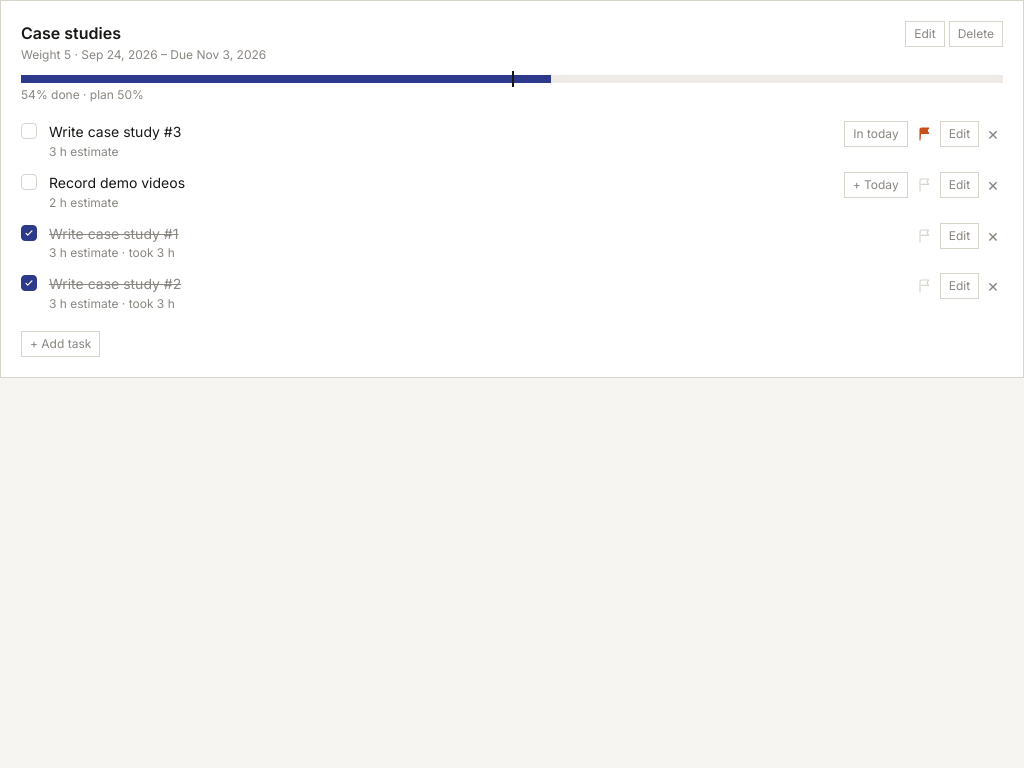
Test: RequirementCard › edits the weight
The image size is (1024, 768).
Click the button with aria-label "Edit Case studies": (925, 34) top-left (905, 21), bottom-right (945, 47)
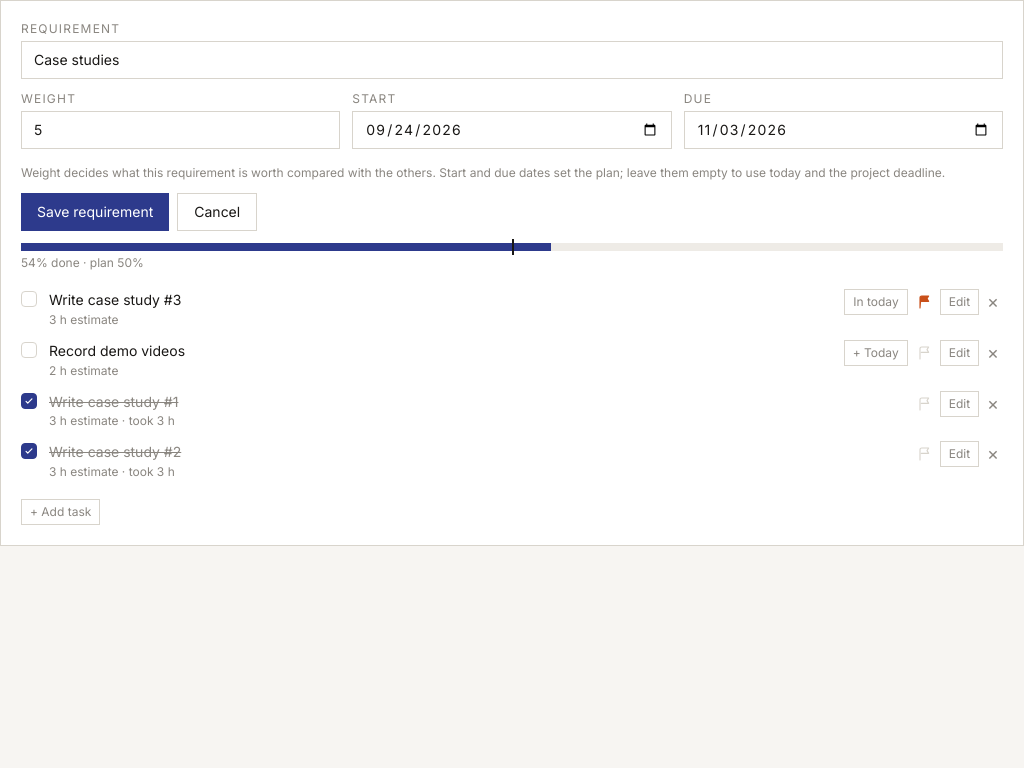
Replace the text in the number field named "Weight (1–10)" with "8": (181, 130) top-left (21, 111), bottom-right (340, 149)
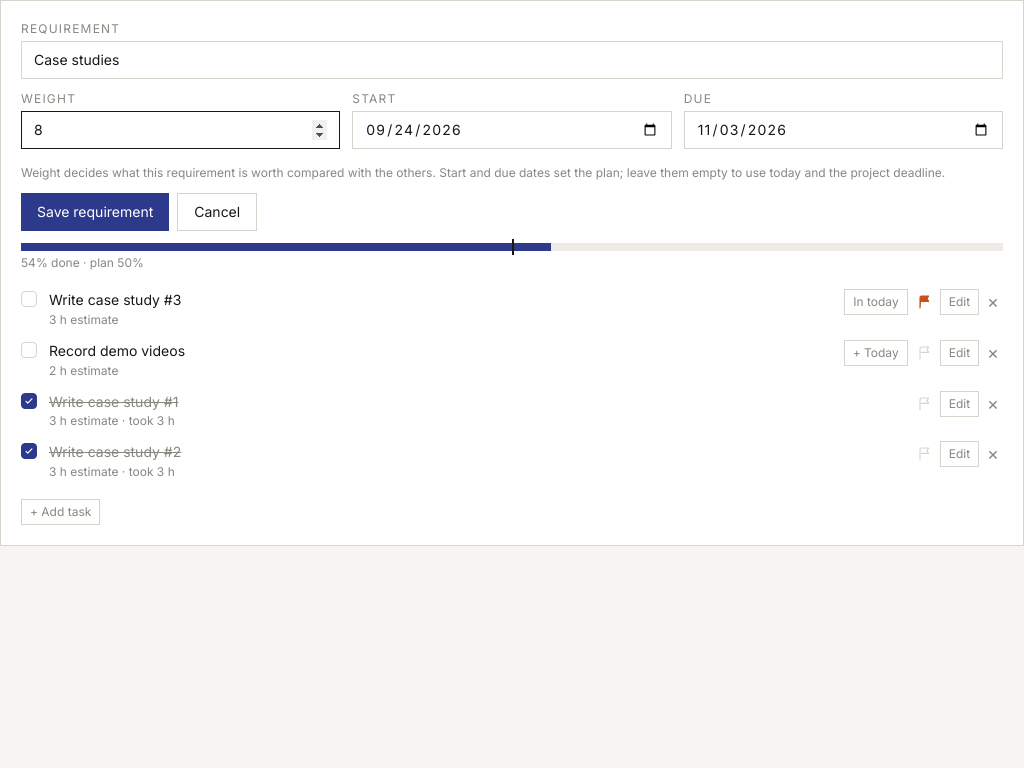
Click the button "Save requirement": (95, 212) top-left (21, 193), bottom-right (169, 231)
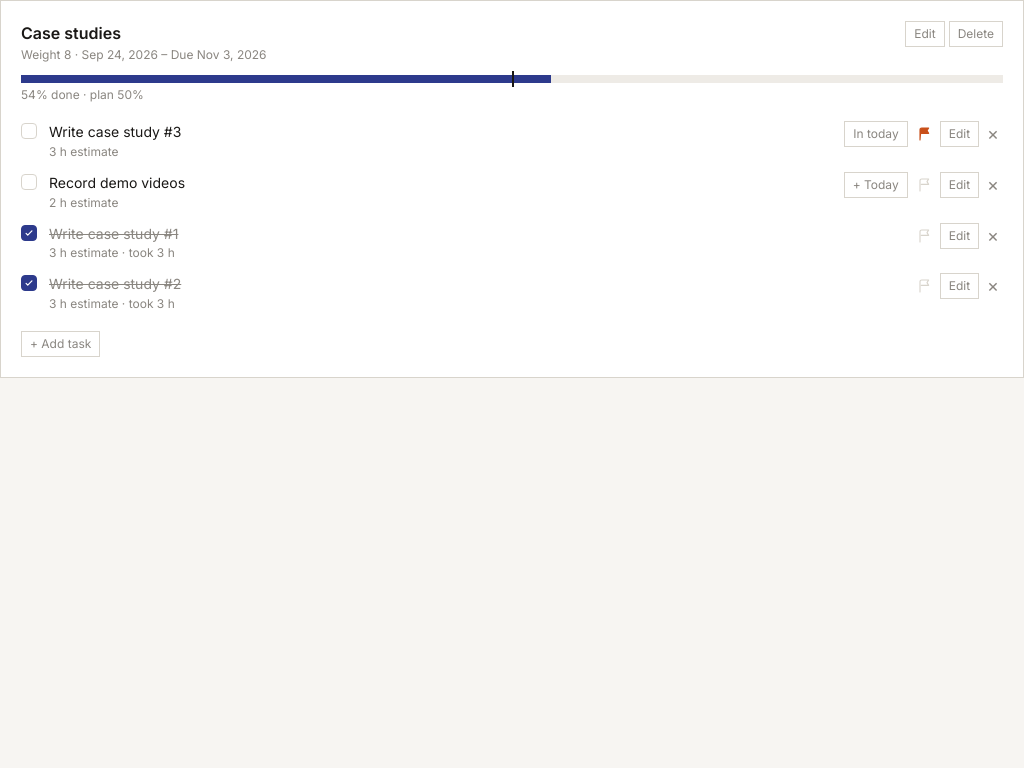
Expected: the text "Weight 8 · Sep 24, 2026 – Due Nov 3, 2026" is shown, top-left (21, 47), bottom-right (266, 63)
